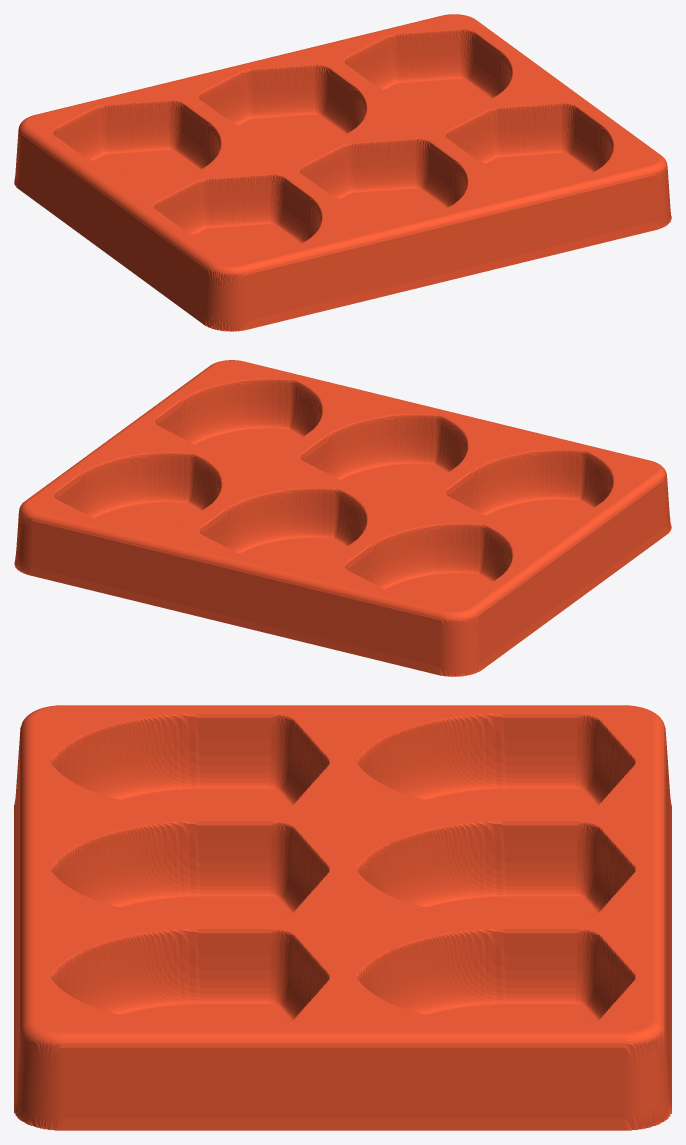
Rendered from mold.glb.
The picture shows the model from 3 angles, top to bottom: view 1: azimuth 30°, elevation 25°; view 2: azimuth 150°, elevation 25°; view 3: azimuth 270°, elevation 25°; orthographic projection. The views are drawn at different scales.
Parts seen in each view (by area): view 1: geometry_0; view 2: geometry_0; view 3: geometry_0.
Boxes of the visible parts, x1,y1,x2,y2 form: geometry_0: [14, 14, 671, 331]; geometry_0: [14, 360, 671, 676]; geometry_0: [14, 705, 671, 1130].
Size of the model in its own units: 0.1505 by 0.0185 by 0.1222.
